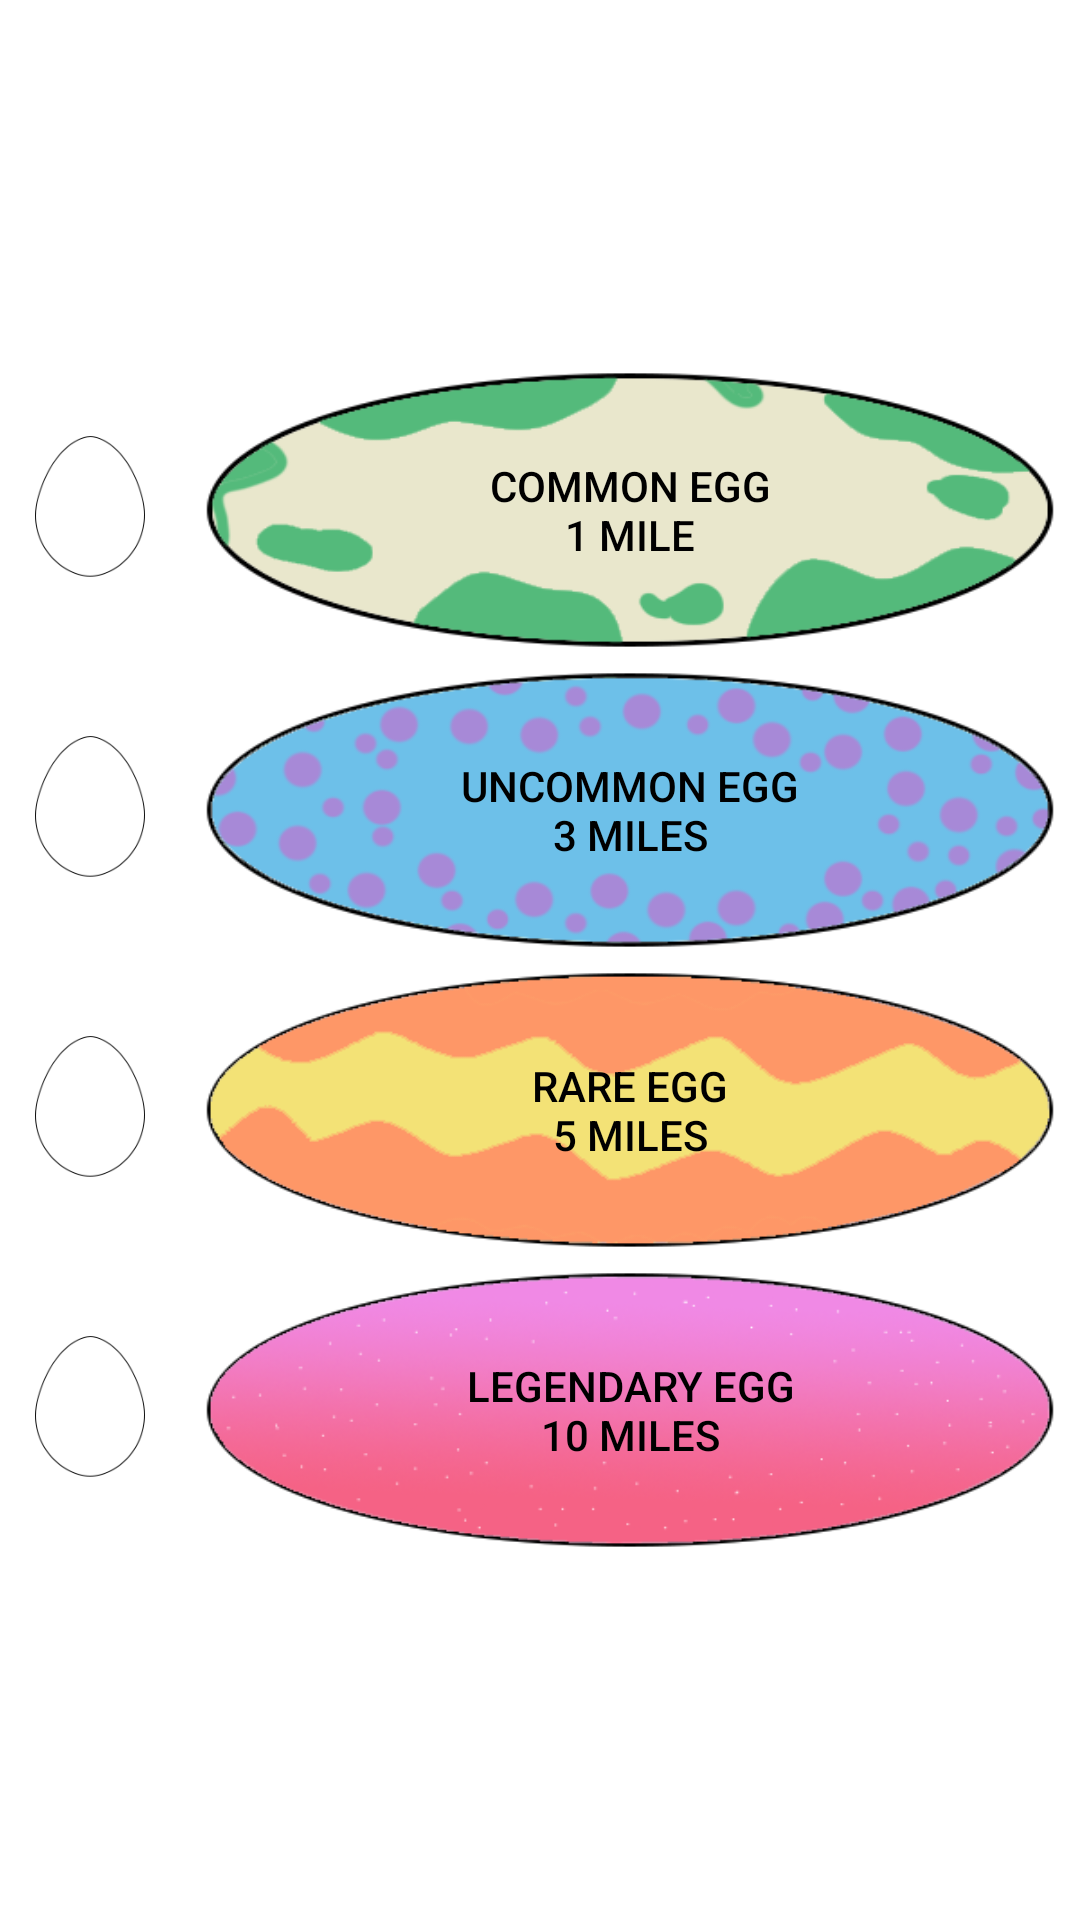

Icon bounding boxes for this 1080×1920 phone screenshot, format (x1, y1, x2, y2):
blankegg: (35, 436, 145, 577), (35, 736, 145, 877), (35, 1036, 145, 1177), (35, 1336, 145, 1477)
